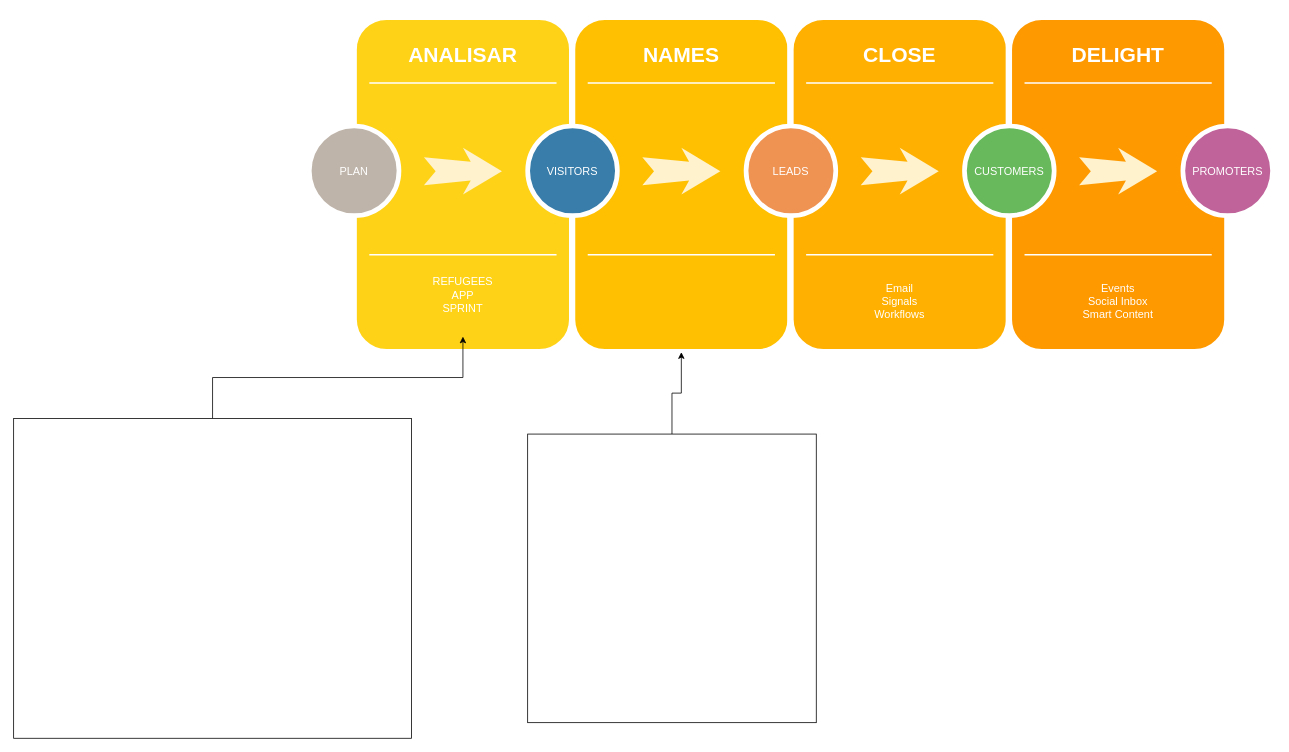
This 1289x752 diagram has some shape labels left out. The box of each missing label's shape, as (x1, y1, x2, y2) in pixels:
RefugeeLink: (527, 433, 816, 723)
SOCIALMEDIA APP MENTOR PROGRAM LERANING PROGRAM WORKING PROGRAM: (13, 418, 411, 738)
